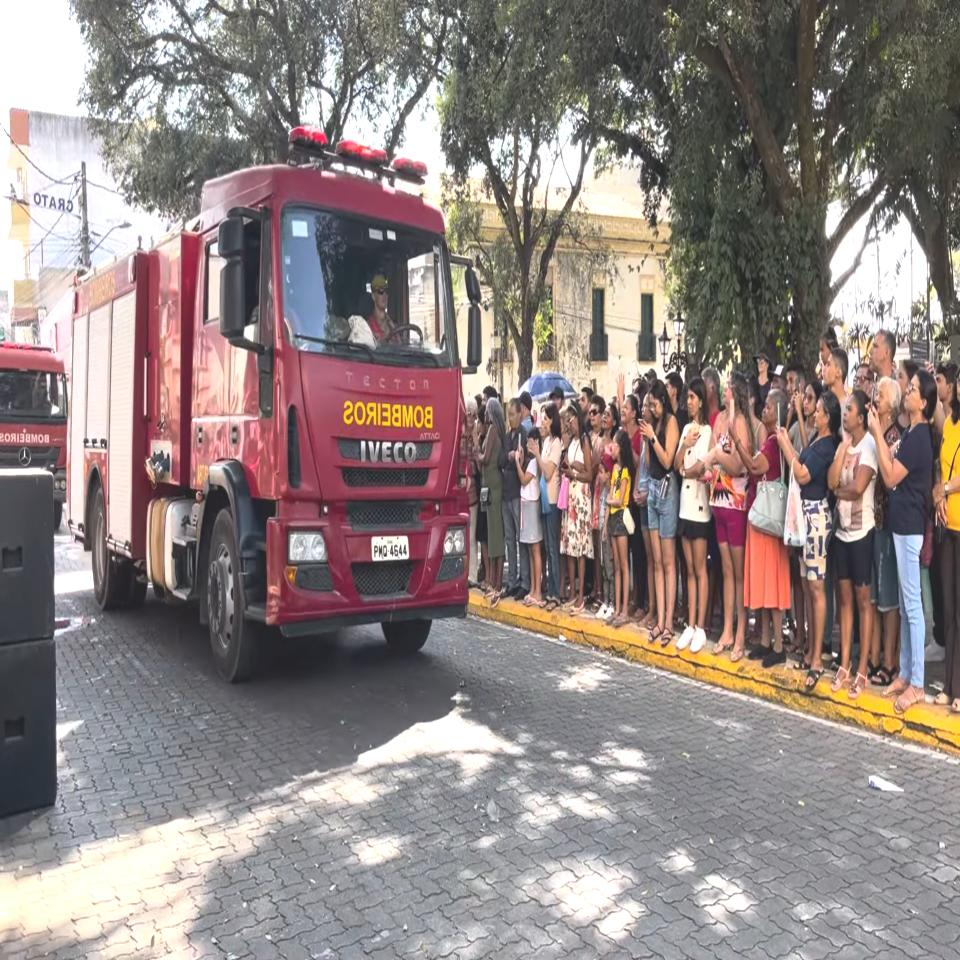bombeiro: (65, 121, 484, 686)
